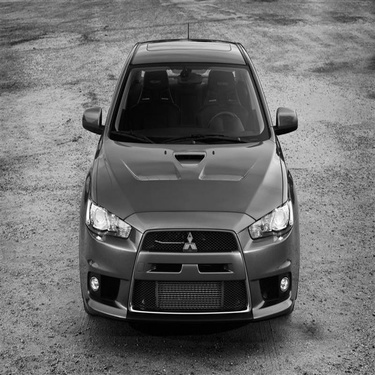car: (64, 20, 311, 332)
